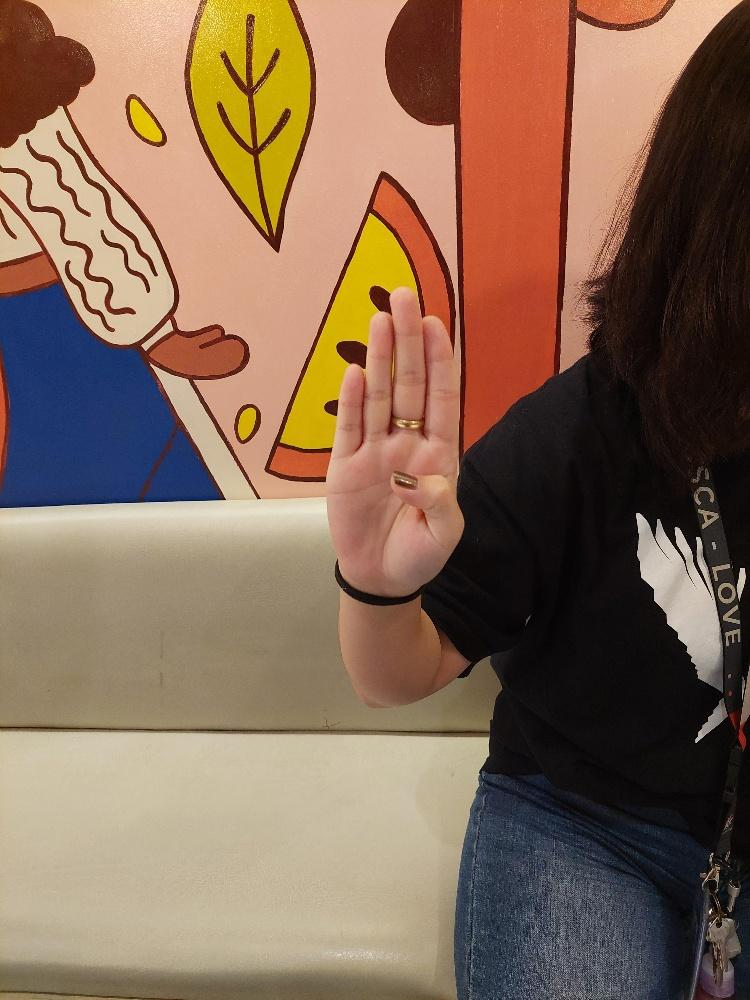b: (322, 282, 466, 589)
